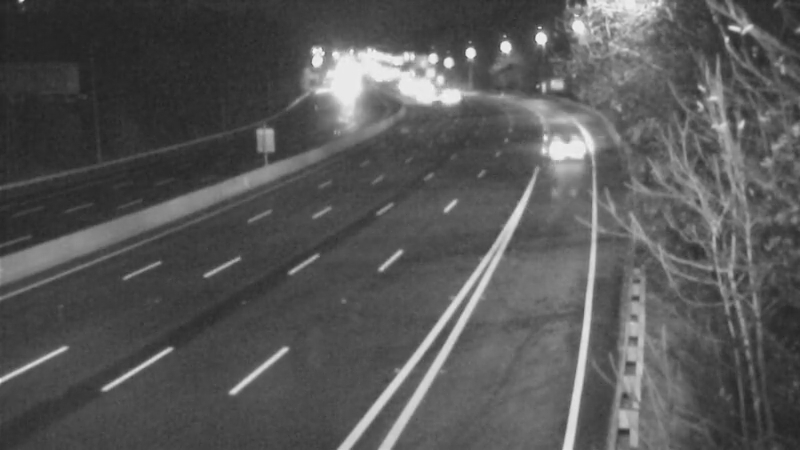vehicle: (430, 74, 480, 124), (397, 74, 447, 124), (535, 121, 585, 171)
